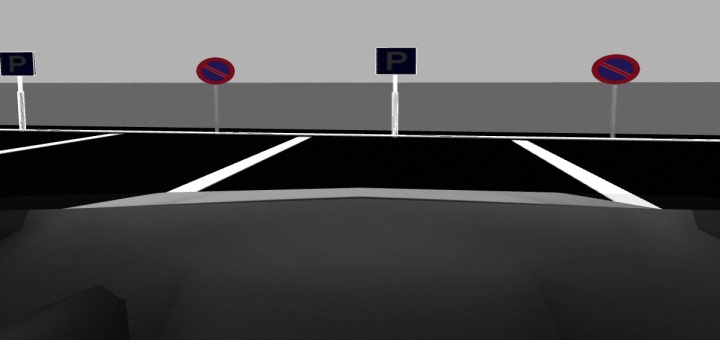park: (373, 45, 422, 79), (1, 47, 42, 81)
park_yapilmaz: (589, 50, 640, 88), (192, 54, 237, 87)
